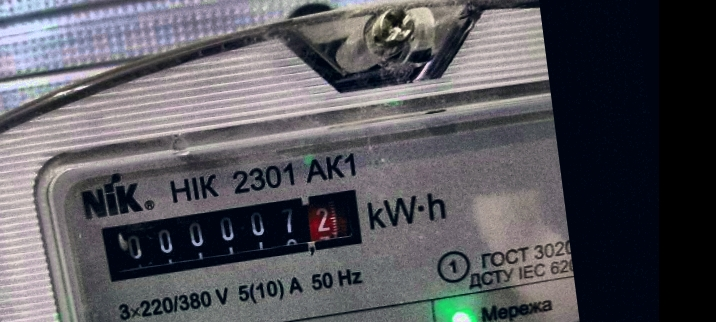0: (185, 218, 205, 248), (124, 231, 144, 260), (216, 213, 236, 242), (155, 225, 174, 254), (248, 208, 266, 238)
2: (313, 205, 332, 233)
7: (278, 204, 297, 235)
screen: (88, 181, 375, 288)
